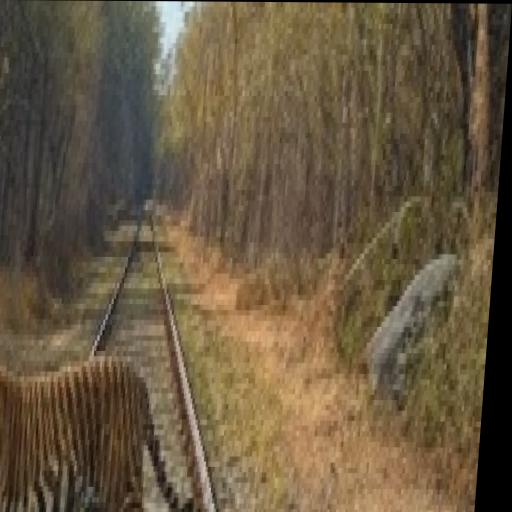Tiger-cow: (0, 346, 209, 509)
